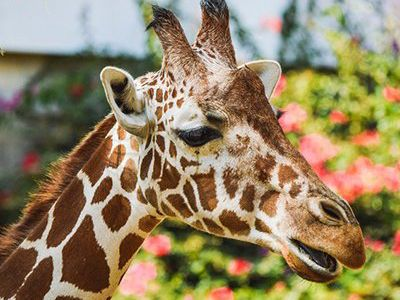Jirafa: (88, 1, 367, 288)
